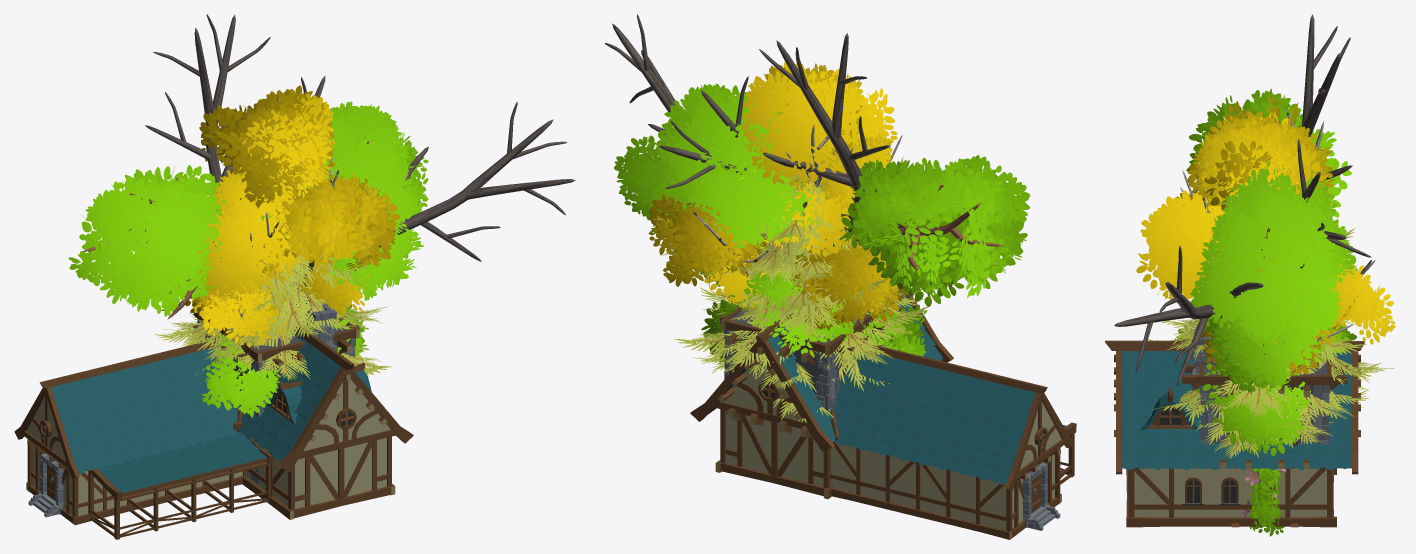
Rendered from flora-9VBlZDwg.glb.
3 views of the same model, side by side, from view 1: azimuth 30°, elevation 25°; view 2: azimuth 150°, elevation 25°; view 3: azimuth 270°, elevation 25° (orthographic). The views are drawn at different scales.
Visible parts, largest first — view 1: Stable, NormalTree_4, BirchTree_5, BirchTree_1, DeadTree_6, PineTree_5, BirchTree_4, PineTree_1, NormalTree_5, House_3; view 2: Stable, NormalTree_4, BirchTree_5, DeadTree_6, PineTree_1, BirchTree_1, PineTree_5, BirchTree_4, NormalTree_5, House_3; view 3: NormalTree_4, Stable, BirchTree_5, DeadTree_6, NormalTree_5, House_3, BirchTree_1, PineTree_5, PineTree_1, Bush_Large_Flowers, BirchTree_4, Bush_Large (+1 smaller).
Part boxes in pixels (<box>): Stable: <box>14,303,413,539</box>; NormalTree_4: <box>68,101,428,319</box>; BirchTree_5: <box>197,85,400,306</box>; BirchTree_1: <box>185,93,362,318</box>; DeadTree_6: <box>145,14,575,304</box>; PineTree_5: <box>154,196,388,380</box>; BirchTree_4: <box>191,200,368,347</box>; PineTree_1: <box>163,190,392,374</box>; NormalTree_5: <box>202,285,368,417</box>; House_3: <box>193,312,359,483</box>; Stable: <box>690,287,1076,539</box>; NormalTree_4: <box>614,83,1030,306</box>; BirchTree_5: <box>648,63,903,287</box>; DeadTree_6: <box>604,14,889,255</box>; PineTree_1: <box>673,156,927,392</box>; BirchTree_1: <box>713,61,897,323</box>; PineTree_5: <box>692,174,924,422</box>; BirchTree_4: <box>704,176,909,333</box>; NormalTree_5: <box>701,260,926,362</box>; House_3: <box>720,302,897,435</box>; NormalTree_4: <box>1186,88,1357,392</box>; Stable: <box>1105,327,1364,527</box>; BirchTree_5: <box>1136,94,1395,354</box>; DeadTree_6: <box>1114,14,1371,385</box>; NormalTree_5: <box>1174,322,1356,456</box>; House_3: <box>1182,325,1347,527</box>; BirchTree_1: <box>1187,113,1302,365</box>; PineTree_5: <box>1148,319,1394,458</box>; PineTree_1: <box>1152,228,1380,430</box>; Bush_Large_Flowers: <box>1244,468,1286,531</box>; BirchTree_4: <box>1200,306,1323,376</box>; Bush_Large: <box>1249,468,1284,531</box>.
Size of the model in its own units: 7.43 by 6.67 by 3.8.
Materials: 28 (12 with a texture image).
